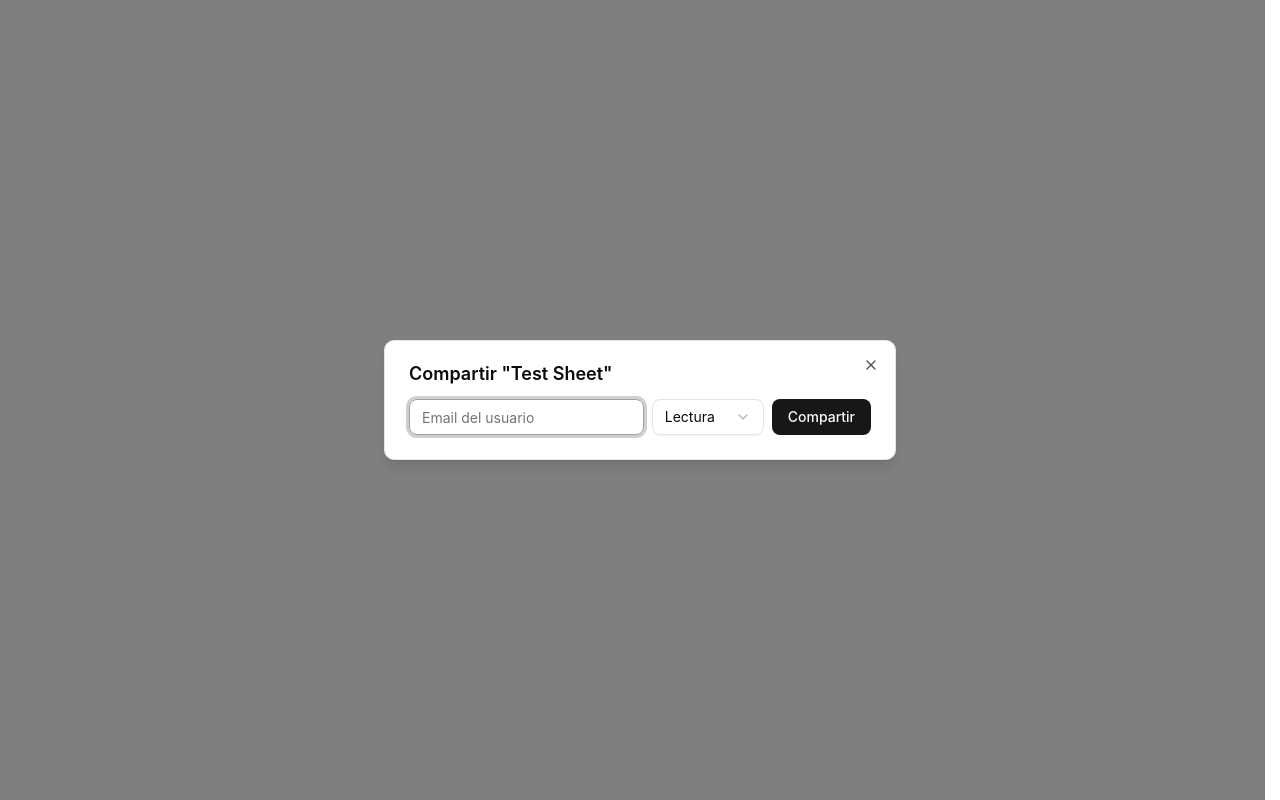
it: SheetShareDialog › shows confirmation banner when needsConfirmation is returned
This screenshot has width=1280, height=800.
In the field with placeholder "Email del usuario": coordinates (526, 417) left=409, top=399, right=644, bottom=435, type "new@example.com"
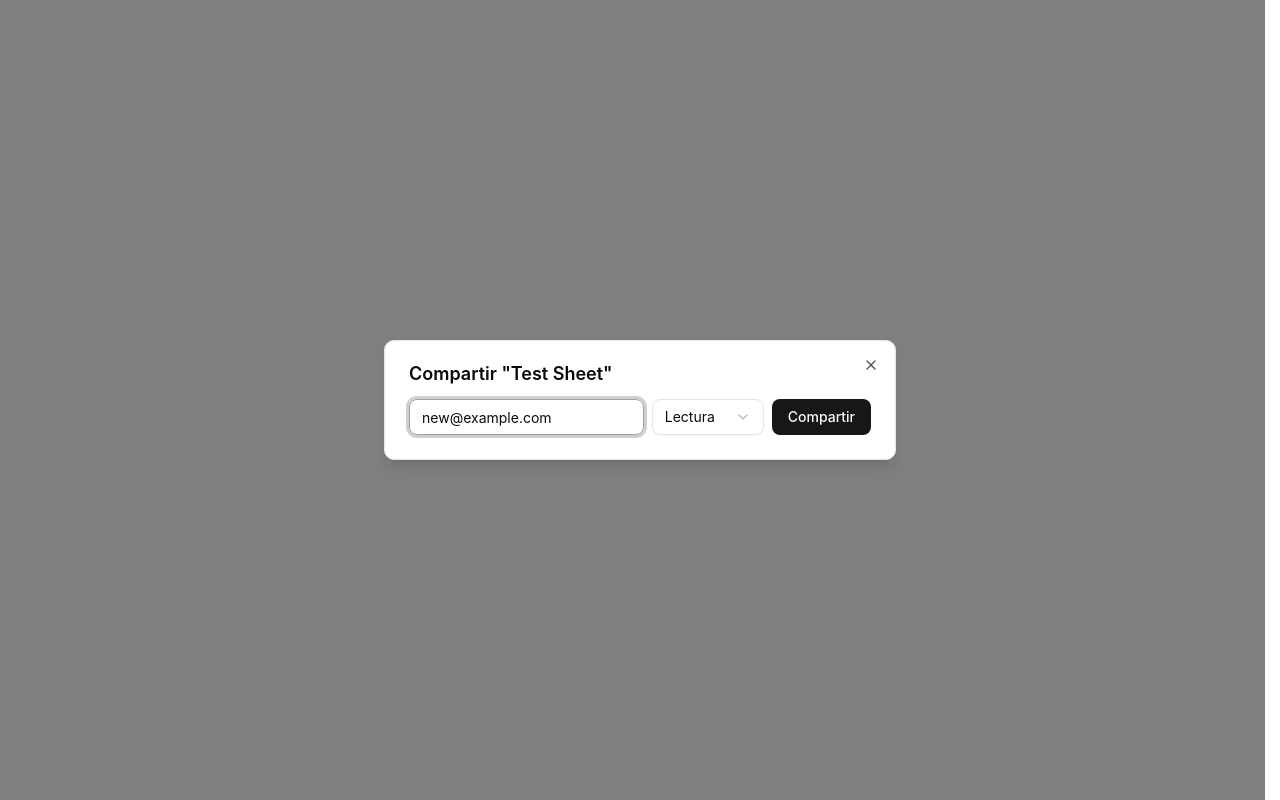
Click the button "Compartir": coordinates (821, 417) left=772, top=399, right=871, bottom=435
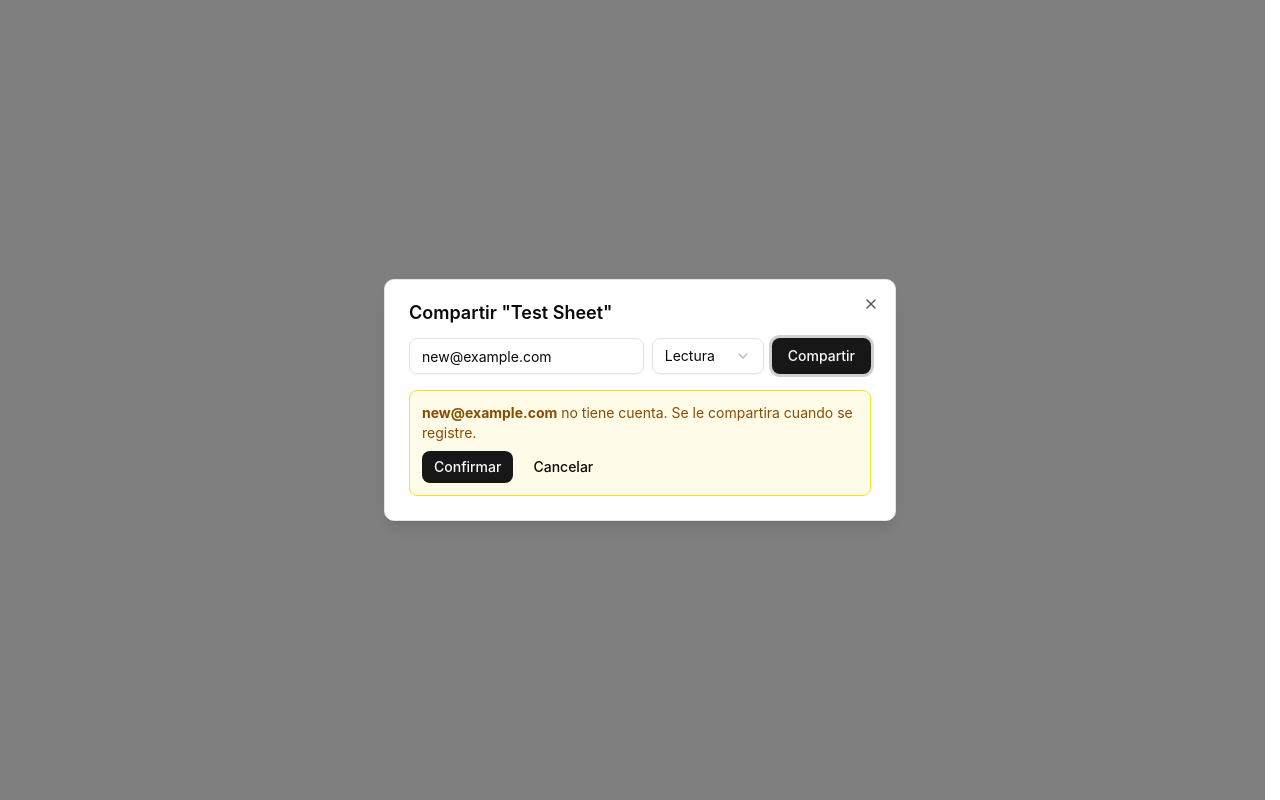
Check: the text "no tiene cuenta" is shown, box left=422, top=404, right=853, bottom=441
Check: the button "Confirmar" is shown, box left=422, top=451, right=513, bottom=483
Check: the button "Cancelar" is shown, box left=521, top=451, right=605, bottom=483
